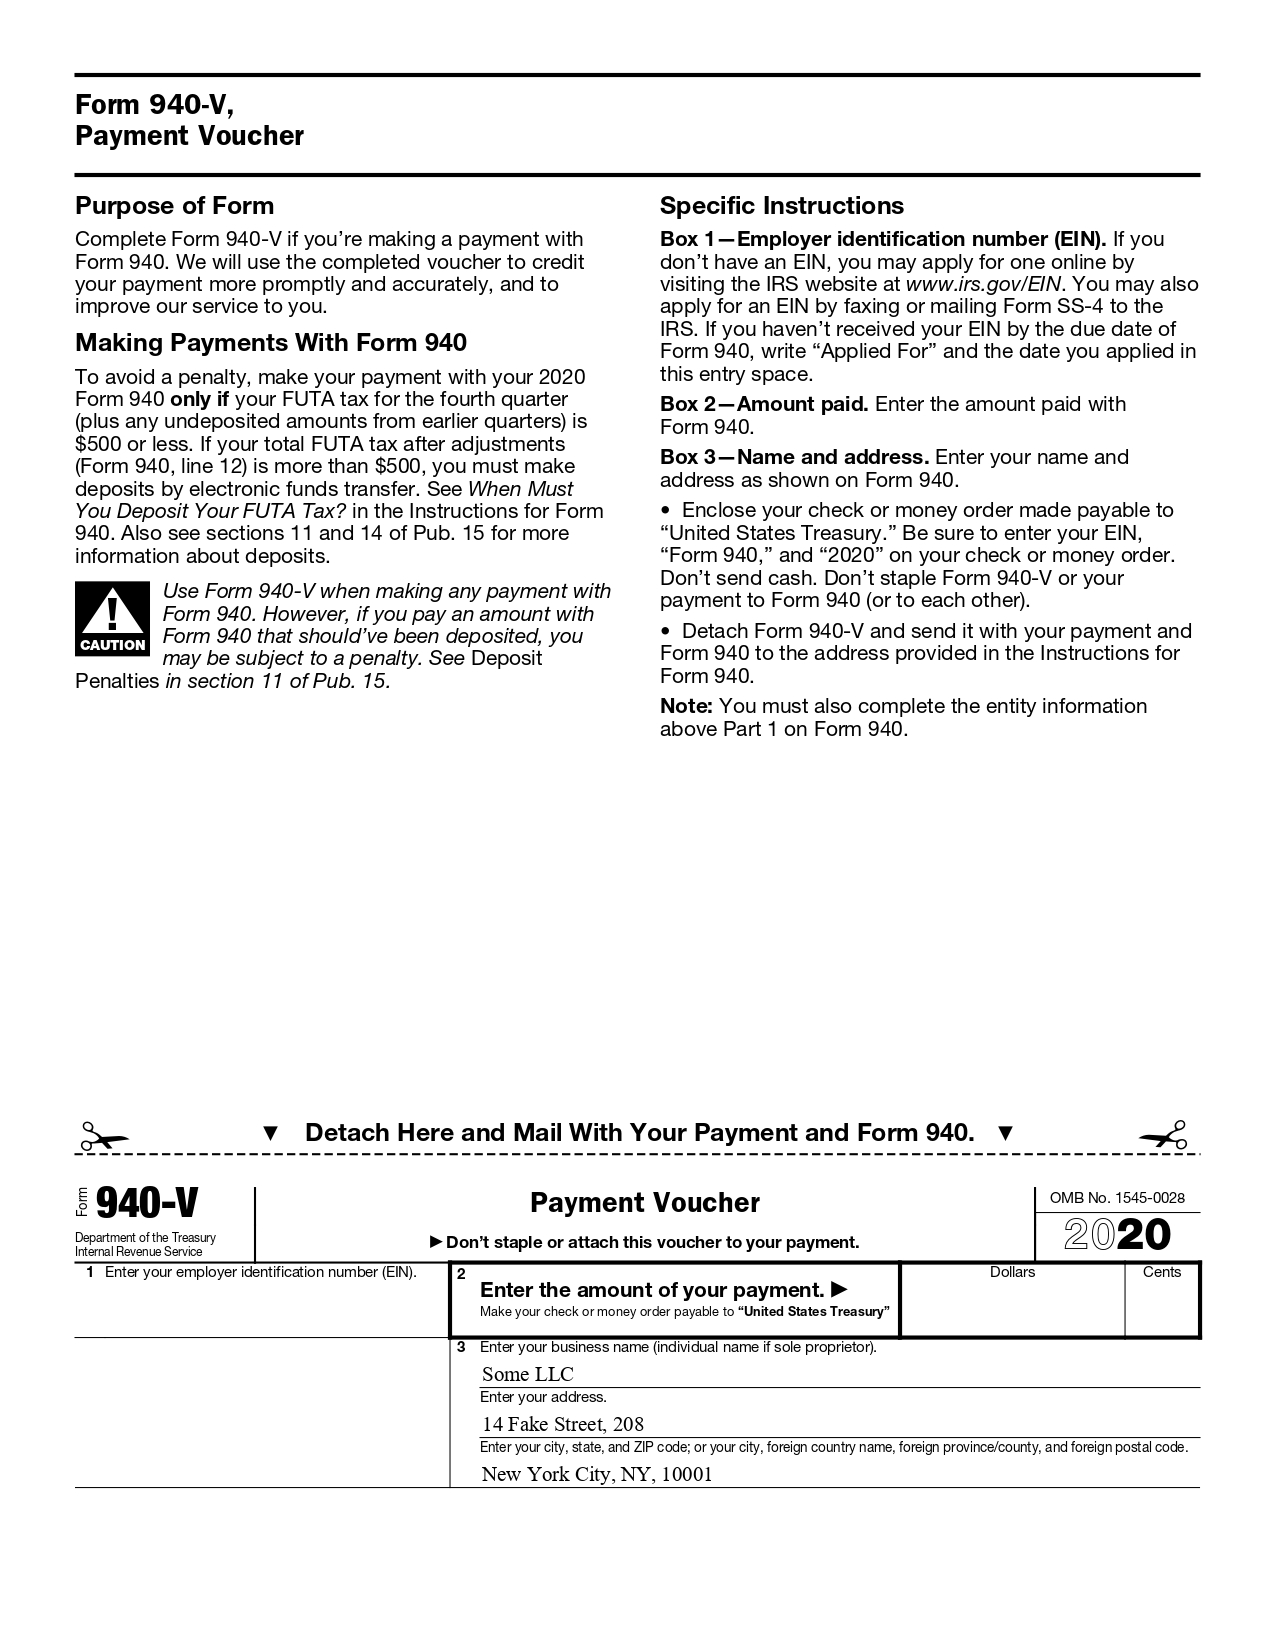form: (62, 1152, 1227, 1507)
